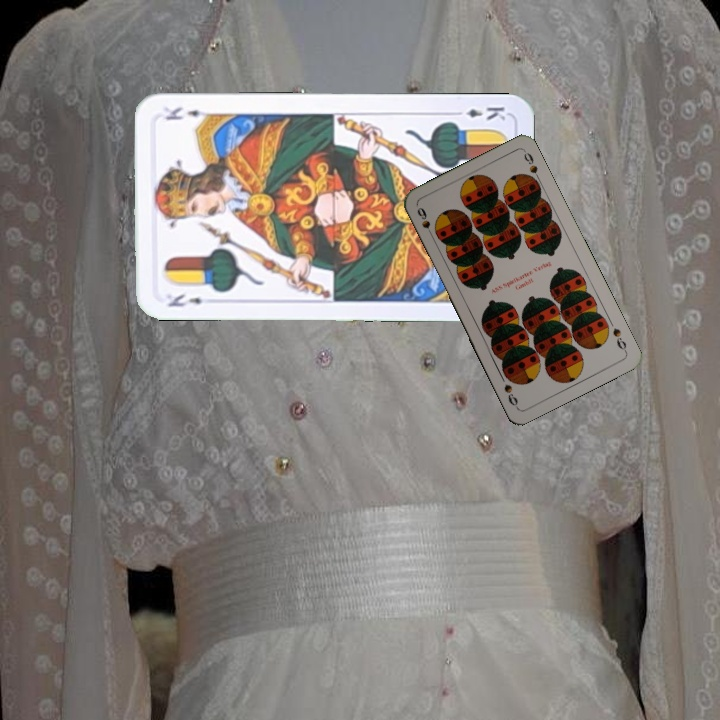EK: (449, 102, 508, 123), (164, 290, 205, 310)
S9: (413, 203, 437, 241), (608, 324, 630, 355)
